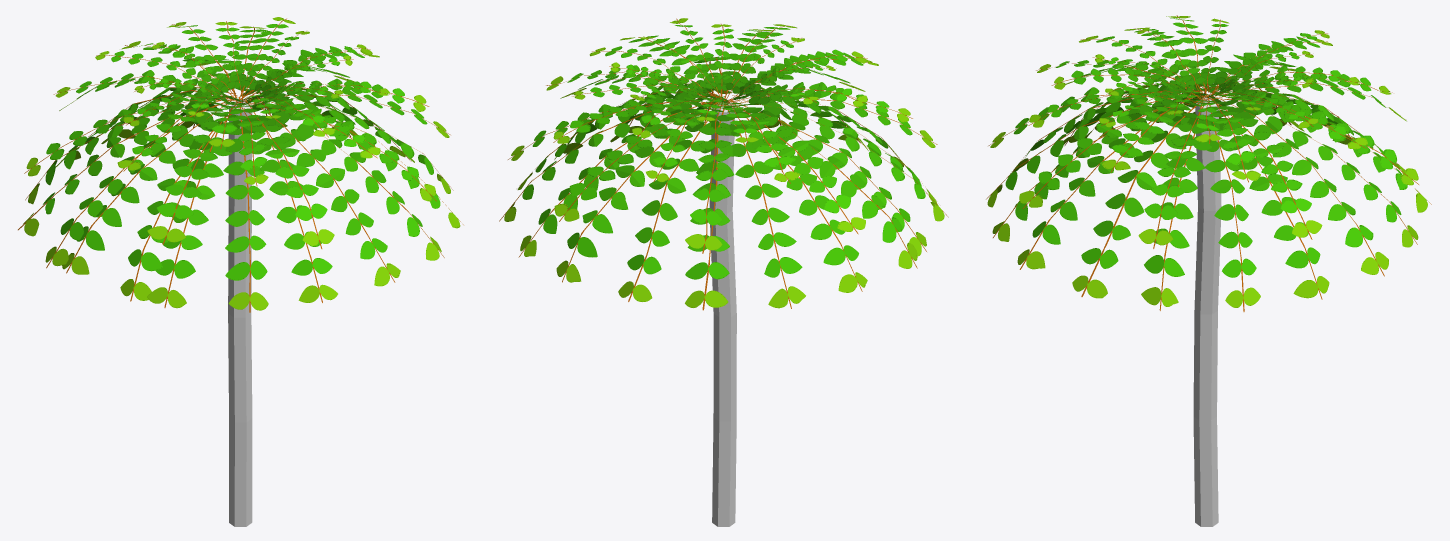
File: Plant3_1.fbx
3 renders of one model, left to right at view 1: azimuth 30°, elevation 25°; view 2: azimuth 150°, elevation 25°; view 3: azimuth 270°, elevation 25°, orthographic.
Parts seen in each view (by area): view 1: Plant3_1; view 2: Plant3_1; view 3: Plant3_1.
Part boxes in pixels (x1,y1,x2,y2): Plant3_1: [18, 17, 463, 526]; Plant3_1: [499, 18, 948, 526]; Plant3_1: [986, 15, 1431, 526].
Bounding box in the file's own units: 1411 × 1573 × 1414.
